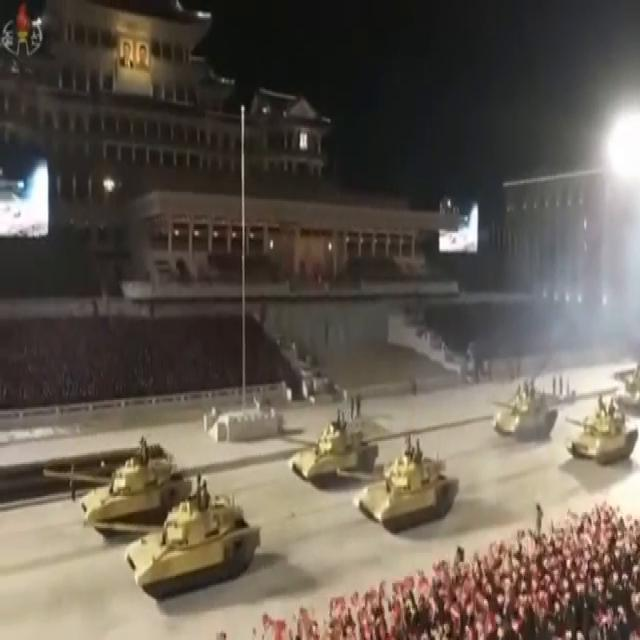north tank: (93, 491, 283, 589), (32, 439, 196, 542), (330, 438, 474, 536), (276, 402, 387, 488), (555, 396, 640, 477), (491, 377, 561, 464)
